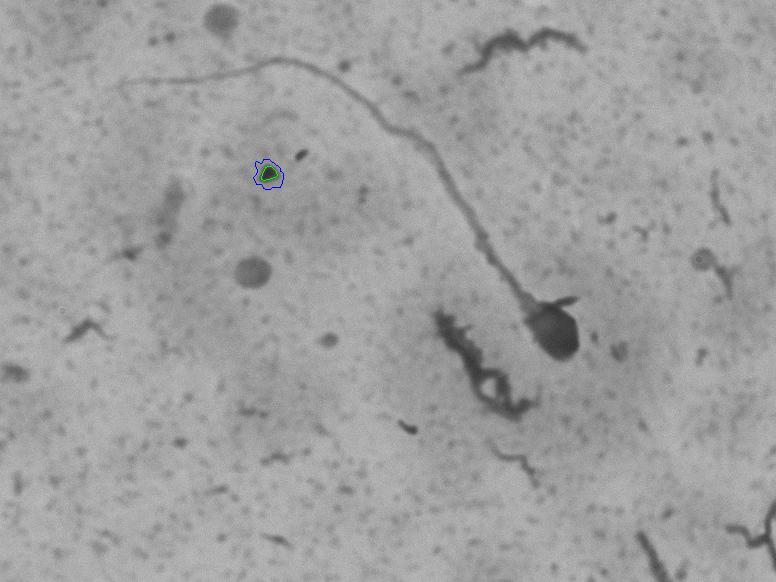Abnormal: (90, 44, 604, 388)
